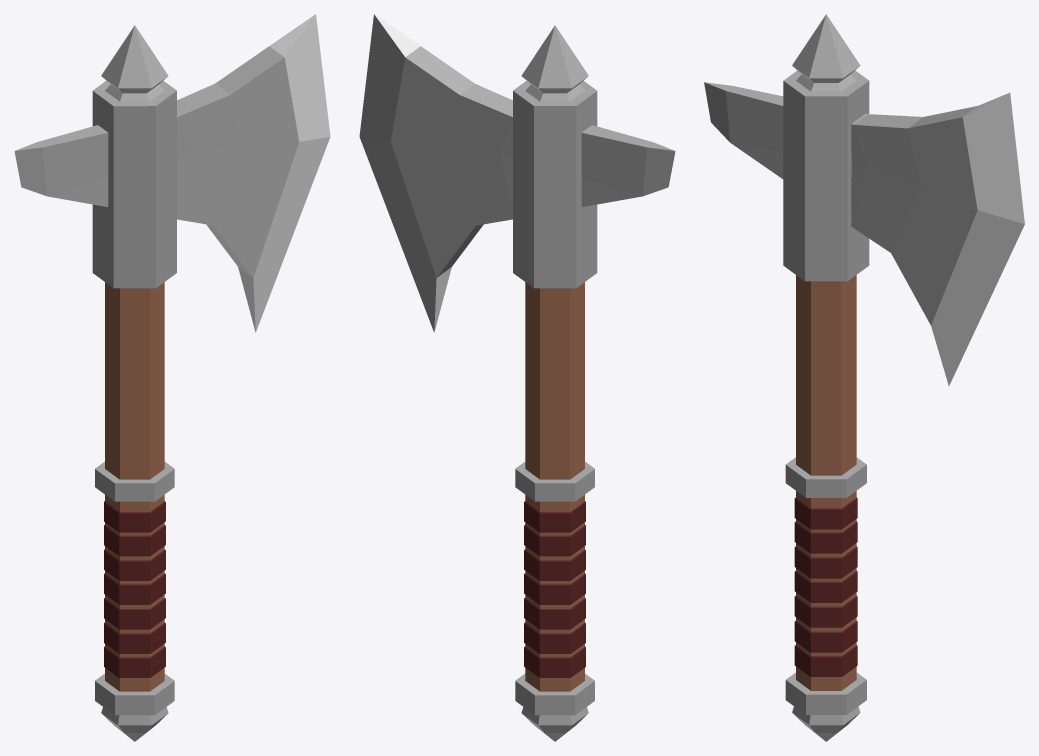
Rendered from Axe.fbx.
The picture shows the model from 3 angles, left to right: view 1: azimuth 30°, elevation 25°; view 2: azimuth 150°, elevation 25°; view 3: azimuth 330°, elevation 25°; orthographic projection.
Visible parts, largest first — view 1: Axe; view 2: Axe; view 3: Axe.
Part boxes in pixels (x1=…): Axe: x1=14, y1=14, x2=330, y2=741; Axe: x1=359, y1=14, x2=675, y2=741; Axe: x1=704, y1=14, x2=1024, y2=741.
Size of the model in its own units: 80.13 by 174 by 18.55.
